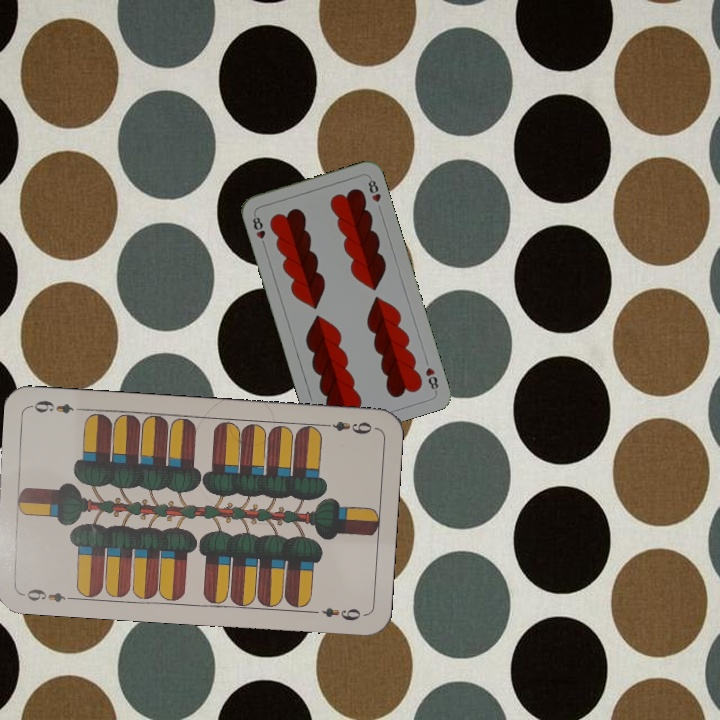E9: (17, 585, 76, 605), (318, 416, 374, 437)
H8: (248, 210, 268, 250), (421, 363, 441, 394)
